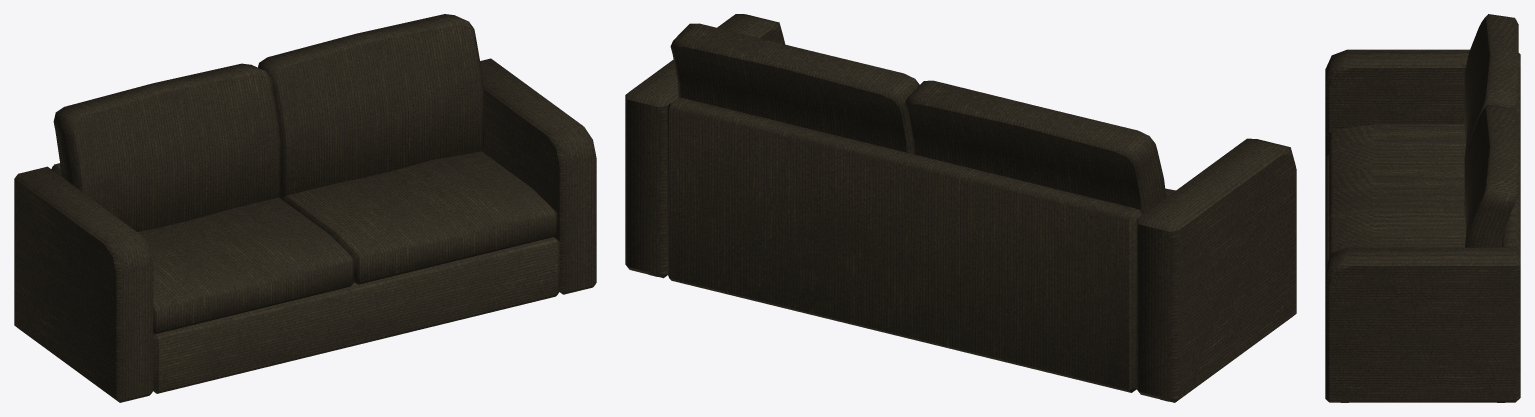
File: sofa_1_1.obj
3 renders of one model, left to right at view 1: azimuth 30°, elevation 25°; view 2: azimuth 150°, elevation 25°; view 3: azimuth 270°, elevation 25°, orthographic. The views are drawn at different scales.
Visible parts, largest first — view 1: sofa_1_1; view 2: sofa_1_1; view 3: sofa_1_1.
Boxes of the visible parts, box(x1,y1,x2,y2) form: sofa_1_1: box(14, 14, 596, 402); sofa_1_1: box(625, 14, 1296, 402); sofa_1_1: box(1325, 14, 1520, 402).
Size of the model in its own units: 2.6 by 1.15 by 1.
